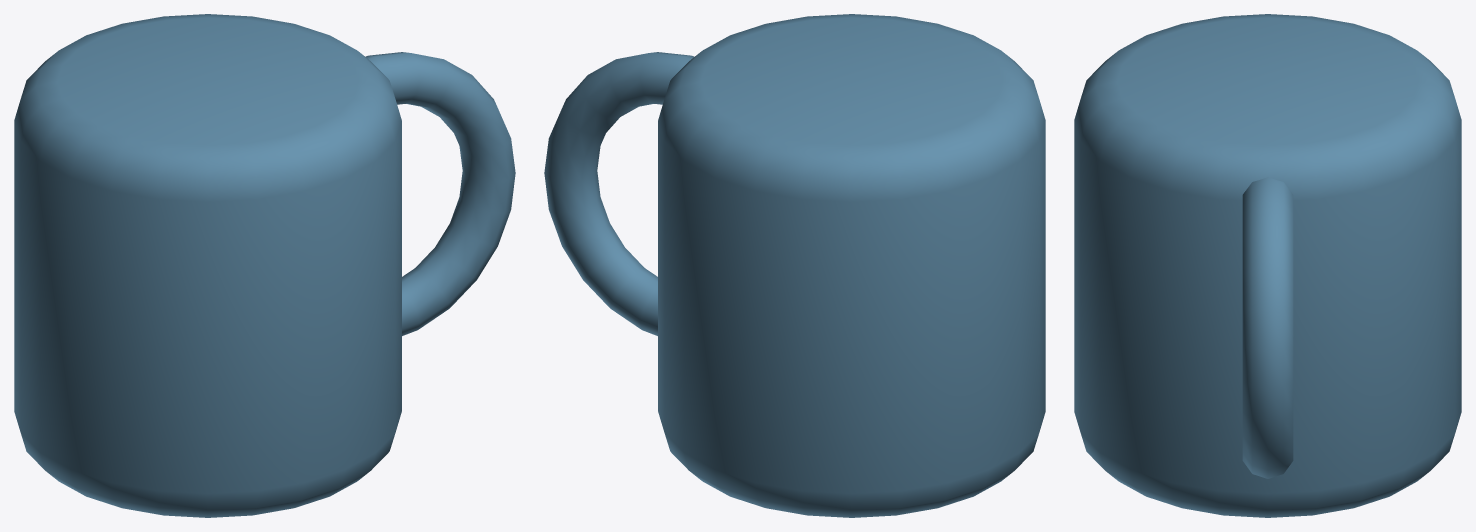
Rendered from mug.glb.
3 renders of one model, left to right at view 1: azimuth 30°, elevation 25°; view 2: azimuth 150°, elevation 25°; view 3: azimuth 270°, elevation 25°, orthographic.
Parts seen in each view (by area): view 1: cup.001, handle.017; view 2: cup.001, handle.017; view 3: cup.001, handle.017.
Boxes of the visible parts, bbox=[...] form: cup.001: bbox=[14, 14, 401, 517]; handle.017: bbox=[365, 52, 515, 335]; cup.001: bbox=[658, 14, 1045, 517]; handle.017: bbox=[544, 52, 694, 335]; cup.001: bbox=[1074, 14, 1461, 517]; handle.017: bbox=[1242, 177, 1293, 478].
Size of the model in its own units: 0.135 by 0.1008 by 0.096.
